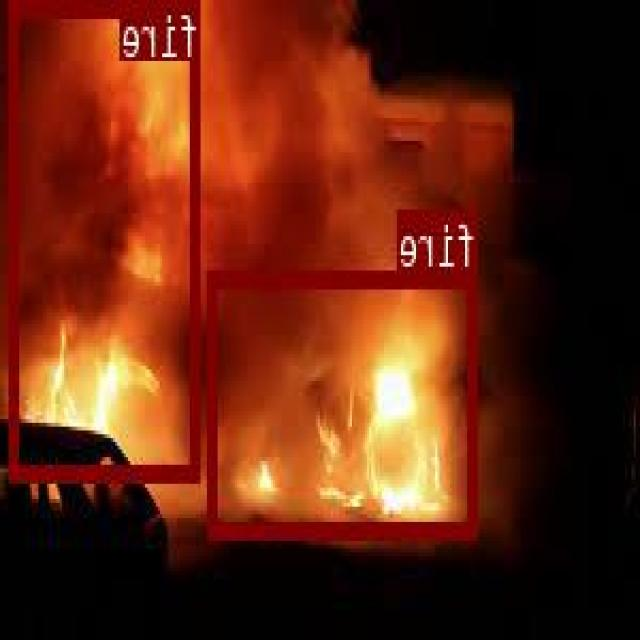fire: (12, 0, 202, 476), (211, 267, 479, 536)
